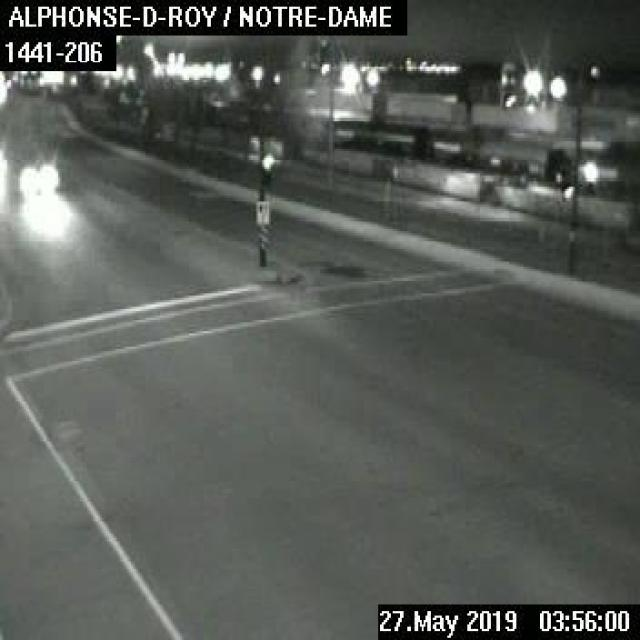vehicle: (6, 151, 56, 193)
